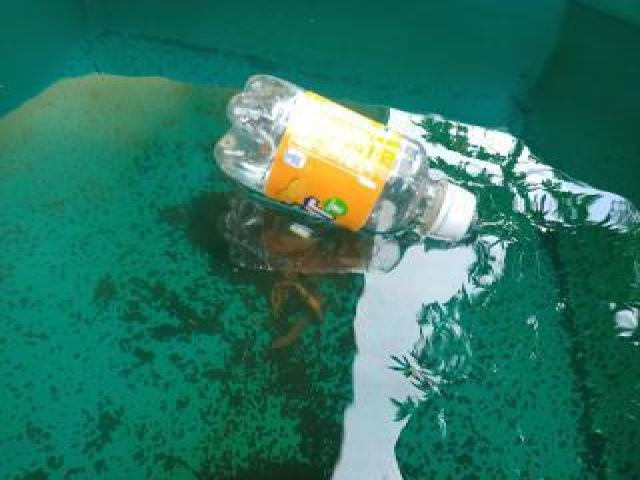Bottle: (209, 72, 477, 246)
